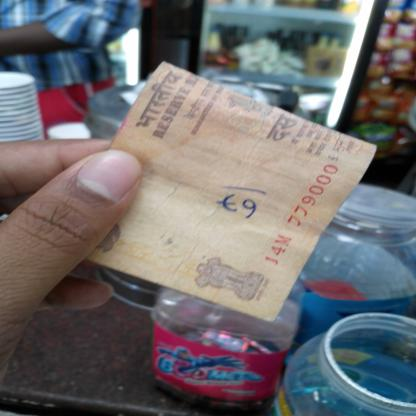Old10Front: (83, 62, 378, 322)
